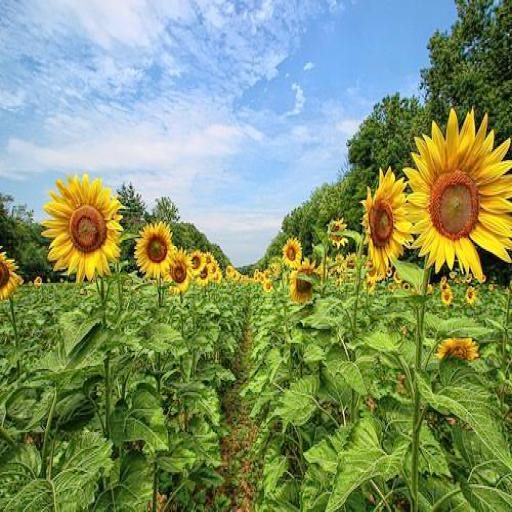sunflower: (407, 109, 512, 276), (43, 171, 125, 281), (362, 166, 412, 269), (135, 220, 176, 280), (167, 249, 190, 294), (291, 269, 316, 306), (283, 238, 301, 268)
